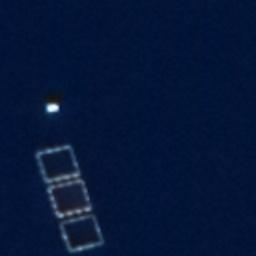square_solid: (31, 141, 85, 184), (44, 177, 96, 220), (55, 212, 108, 254)
